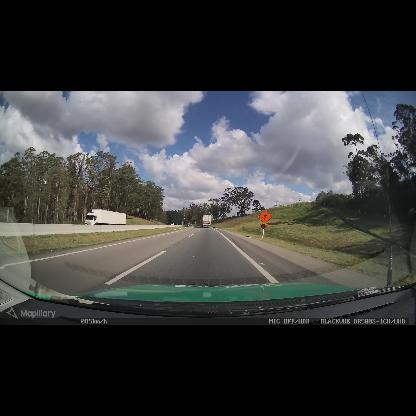A-24: (258, 209, 272, 225)
